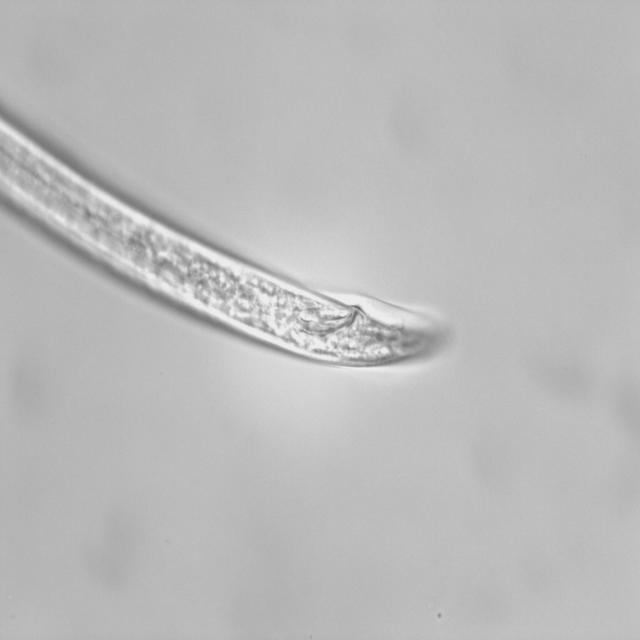Pratylenchus: (0, 70, 471, 390)
